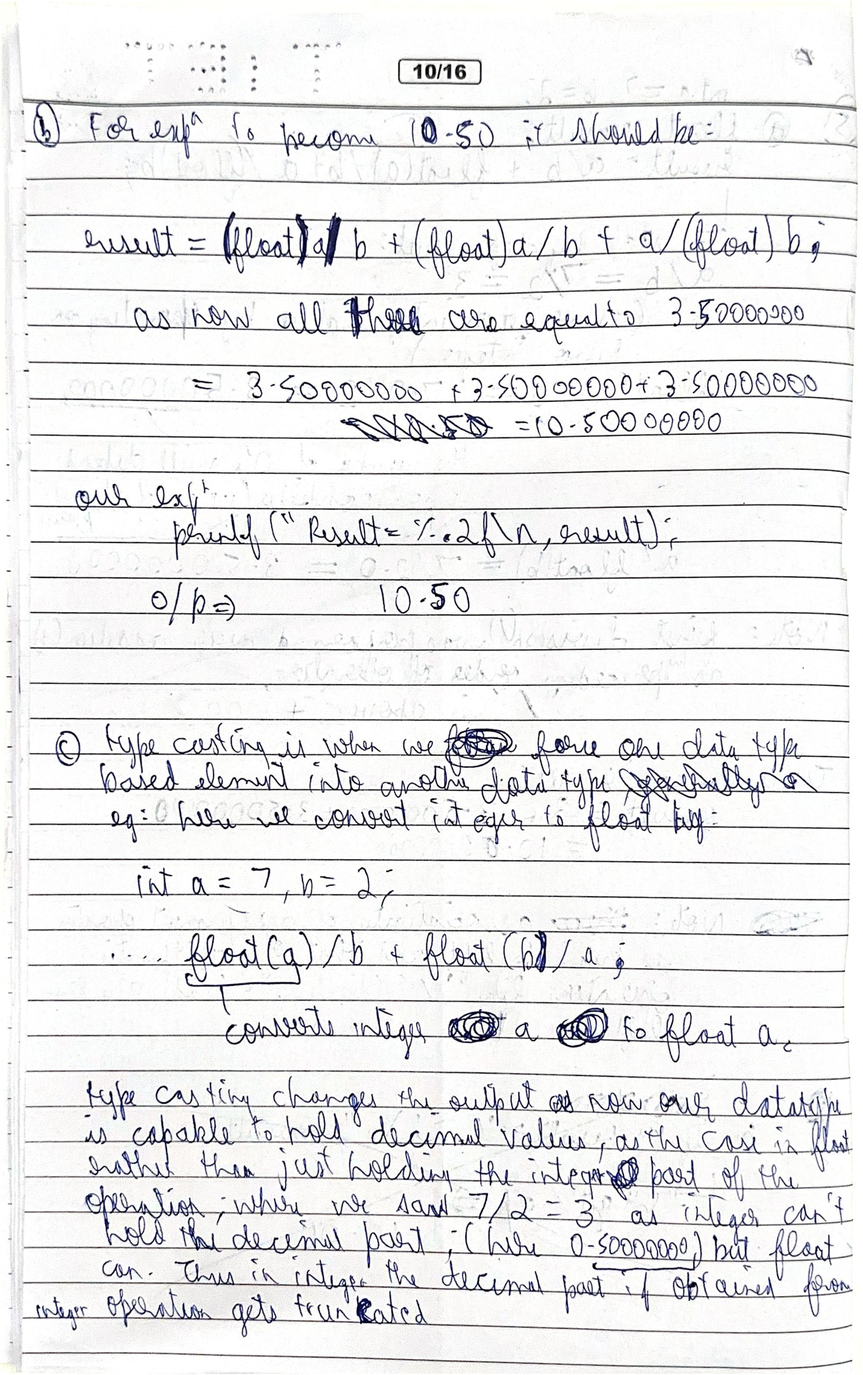cuttings: (618, 761, 821, 816), (338, 411, 495, 447), (443, 723, 517, 777), (555, 1006, 610, 1049), (447, 1008, 500, 1044), (605, 1156, 640, 1202), (547, 1088, 576, 1115)
